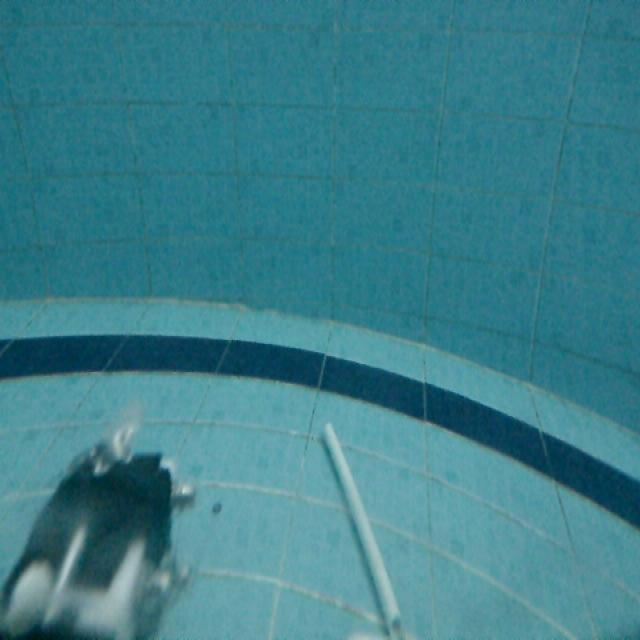Cube: (319, 422, 406, 640)
